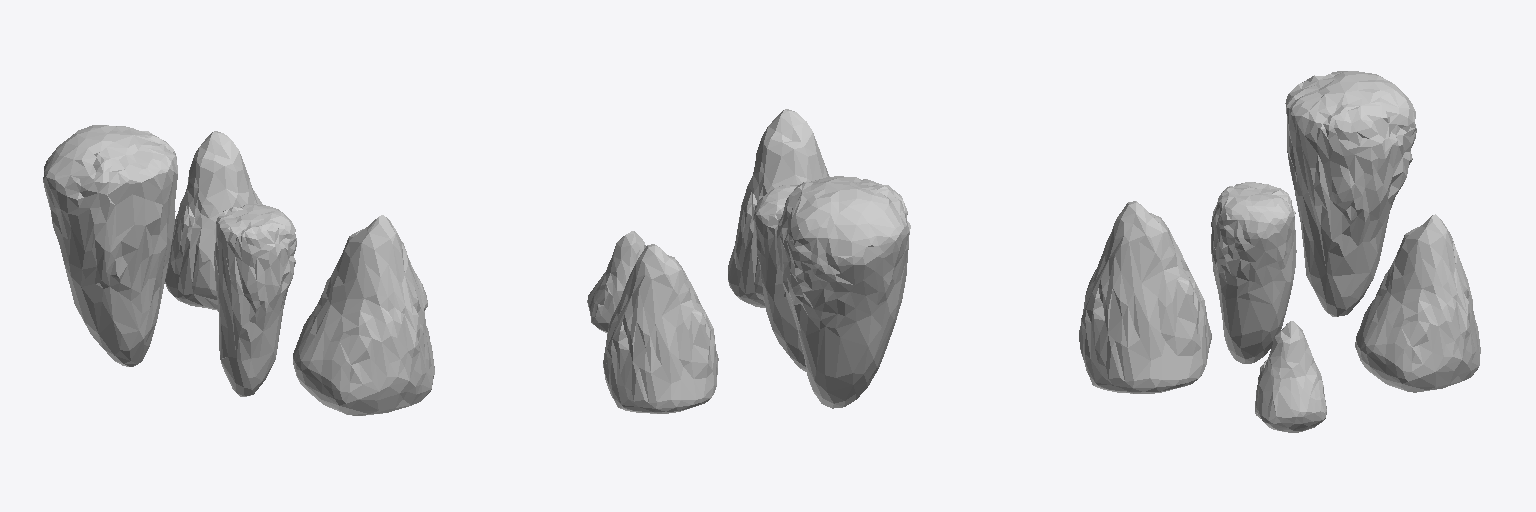
Rendered from rock3.obj.
The picture shows the model from 3 angles: view 1: azimuth 30°, elevation 25°; view 2: azimuth 150°, elevation 25°; view 3: azimuth 270°, elevation 25°; orthographic projection.
Parts seen in each view (by area): view 1: rocks_01_model; view 2: rocks_01_model; view 3: rocks_01_model.
Boxes of the visible parts, x1=… form: rocks_01_model: x1=43, y1=125, x2=434, y2=415; rocks_01_model: x1=587, y1=109, x2=910, y2=413; rocks_01_model: x1=1079, y1=71, x2=1480, y2=432.
Size of the model in its own units: 497 by 336 by 507.